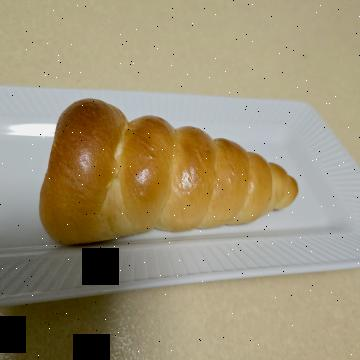cream horn: (83, 39, 281, 322)
